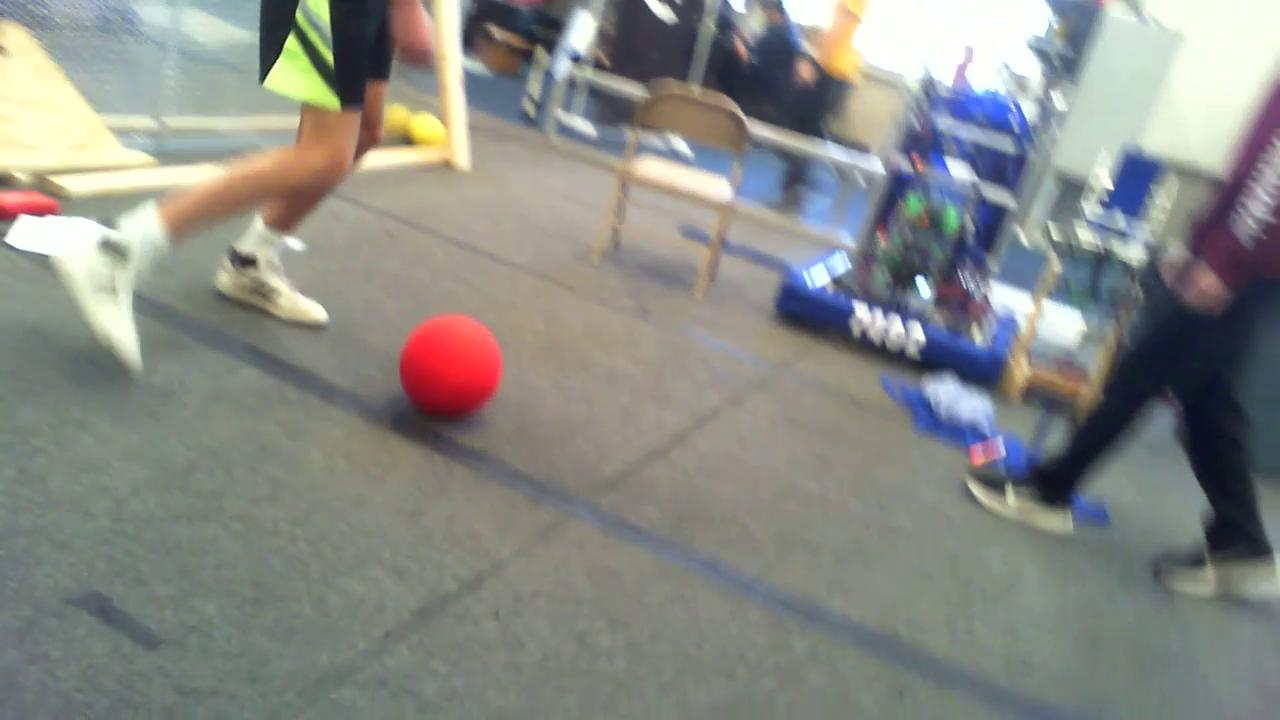Red_Ball: (386, 298, 517, 426)
